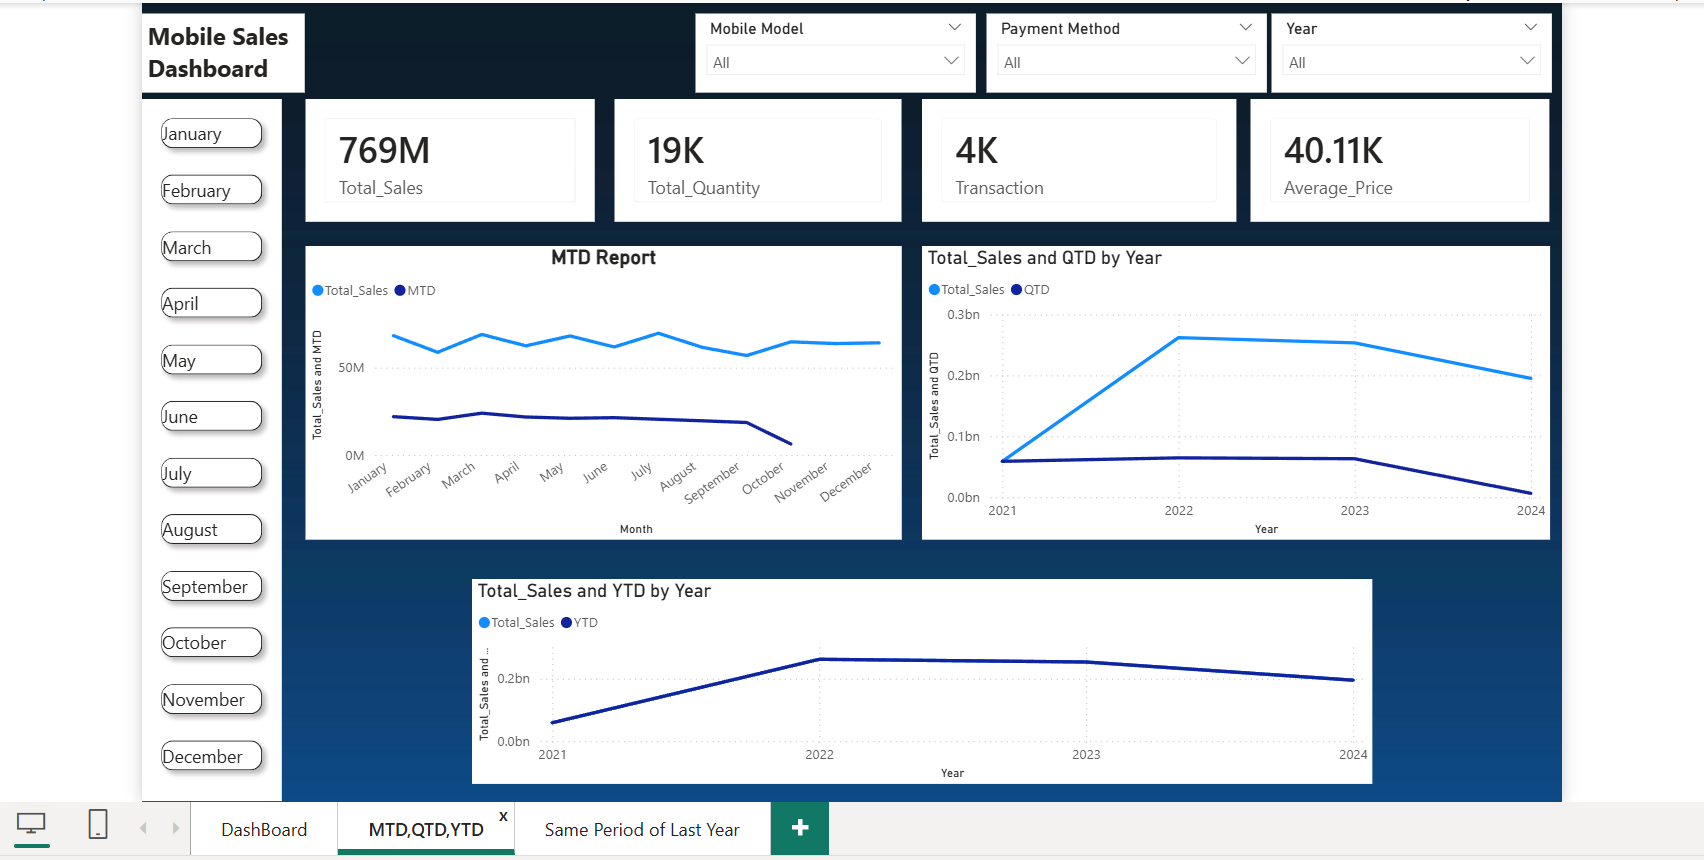

The page's visual inventory and layout, read from the dashboard file:
{"tool":"powerbi","page":{"name":"MTD,QTD,YTD","canvas":[1280,720],"ordinal":1},"visuals":[{"type":"cardVisual","fields":{"Data":["Mobile_Sales.Total_Sales"]},"box":[146.9,86.3,260.4,110.5],"z":0},{"type":"cardVisual","fields":{"Data":["Mobile_Sales.Total_Quantity"]},"box":[425.5,86.3,258.9,110.5],"z":1000},{"type":"cardVisual","fields":{"Data":["Mobile_Sales.Transaction"]},"box":[702.6,86.3,283.2,110.5],"z":2000},{"type":"cardVisual","fields":{"Data":["Mobile_Sales.Average_Price"]},"box":[999.4,86.3,269.5,110.5],"z":3000},{"type":"listSlicer","fields":{"Values":["Custom_Calender.DATE.Variation.Date Hierarchy.Month"]},"box":[0,86.3,125.7,632.9],"z":10000},{"type":"slicer","fields":{"Values":["Mobile_Sales.Mobile Model"]},"box":[498.2,9.1,252.9,71.2],"z":11000},{"type":"slicer","fields":{"Values":["Mobile_Sales.Payment Method"]},"box":[761.6,9.1,252.9,71.2],"z":12000},{"type":"slicer","fields":{"Values":["Custom_Calender.DATE.Variation.Date Hierarchy.Year"]},"box":[1017.5,9.1,252.9,71.2],"z":13000},{"type":"textbox","box":[0,9.1,146.9,71.2],"z":14000},{"type":"lineChart","title":"MTD Report","fields":{"Category":["Custom_Calender.DATE.Variation.Date Hierarchy.Month"],"Y":["Mobile_Sales.Total_Sales","Mobile_Sales.MTD"]},"box":[146.9,219.6,537.5,265],"z":14001},{"type":"lineChart","fields":{"Category":["Custom_Calender.DATE.Variation.Date Hierarchy.Year","Custom_Calender.DATE.Variation.Date Hierarchy.Quarter"],"Y":["Mobile_Sales.Total_Sales","Mobile_Sales.QTD"]},"box":[702.6,219.6,566.3,265],"z":14002},{"type":"lineChart","fields":{"Category":["Custom_Calender.DATE.Variation.Date Hierarchy.Year"],"Y":["Mobile_Sales.Total_Sales","Mobile_Sales.YTD"]},"box":[296.8,519.4,811.6,184.7],"z":14003}]}

Visuals, with their boxes on the page's 1280x720 design canvas (x1, y1, x2, y2). These are canvas units, not pixel positions in the 1704x860 screenshot, which may show the page scaled, cropped or inside an application window:
cardVisual - Mobile_Sales.Total_Sales: <region>147, 86, 407, 197</region>
cardVisual - Mobile_Sales.Total_Quantity: <region>426, 86, 684, 197</region>
cardVisual - Mobile_Sales.Transaction: <region>703, 86, 986, 197</region>
cardVisual - Mobile_Sales.Average_Price: <region>999, 86, 1269, 197</region>
listSlicer - Custom_Calender.DATE.Variation.Date Hierarchy.Month: <region>0, 86, 126, 719</region>
slicer - Mobile_Sales.Mobile Model: <region>498, 9, 751, 80</region>
slicer - Mobile_Sales.Payment Method: <region>762, 9, 1014, 80</region>
slicer - Custom_Calender.DATE.Variation.Date Hierarchy.Year: <region>1018, 9, 1270, 80</region>
textbox: <region>0, 9, 147, 80</region>
"MTD Report" lineChart: <region>147, 220, 684, 485</region>
lineChart - Custom_Calender.DATE.Variation.Date Hierarchy.Year x Custom_Calender.DATE.Variation.Date Hierarchy.Quarter: <region>703, 220, 1269, 485</region>
lineChart - Custom_Calender.DATE.Variation.Date Hierarchy.Year x Mobile_Sales.Total_Sales: <region>297, 519, 1108, 704</region>
